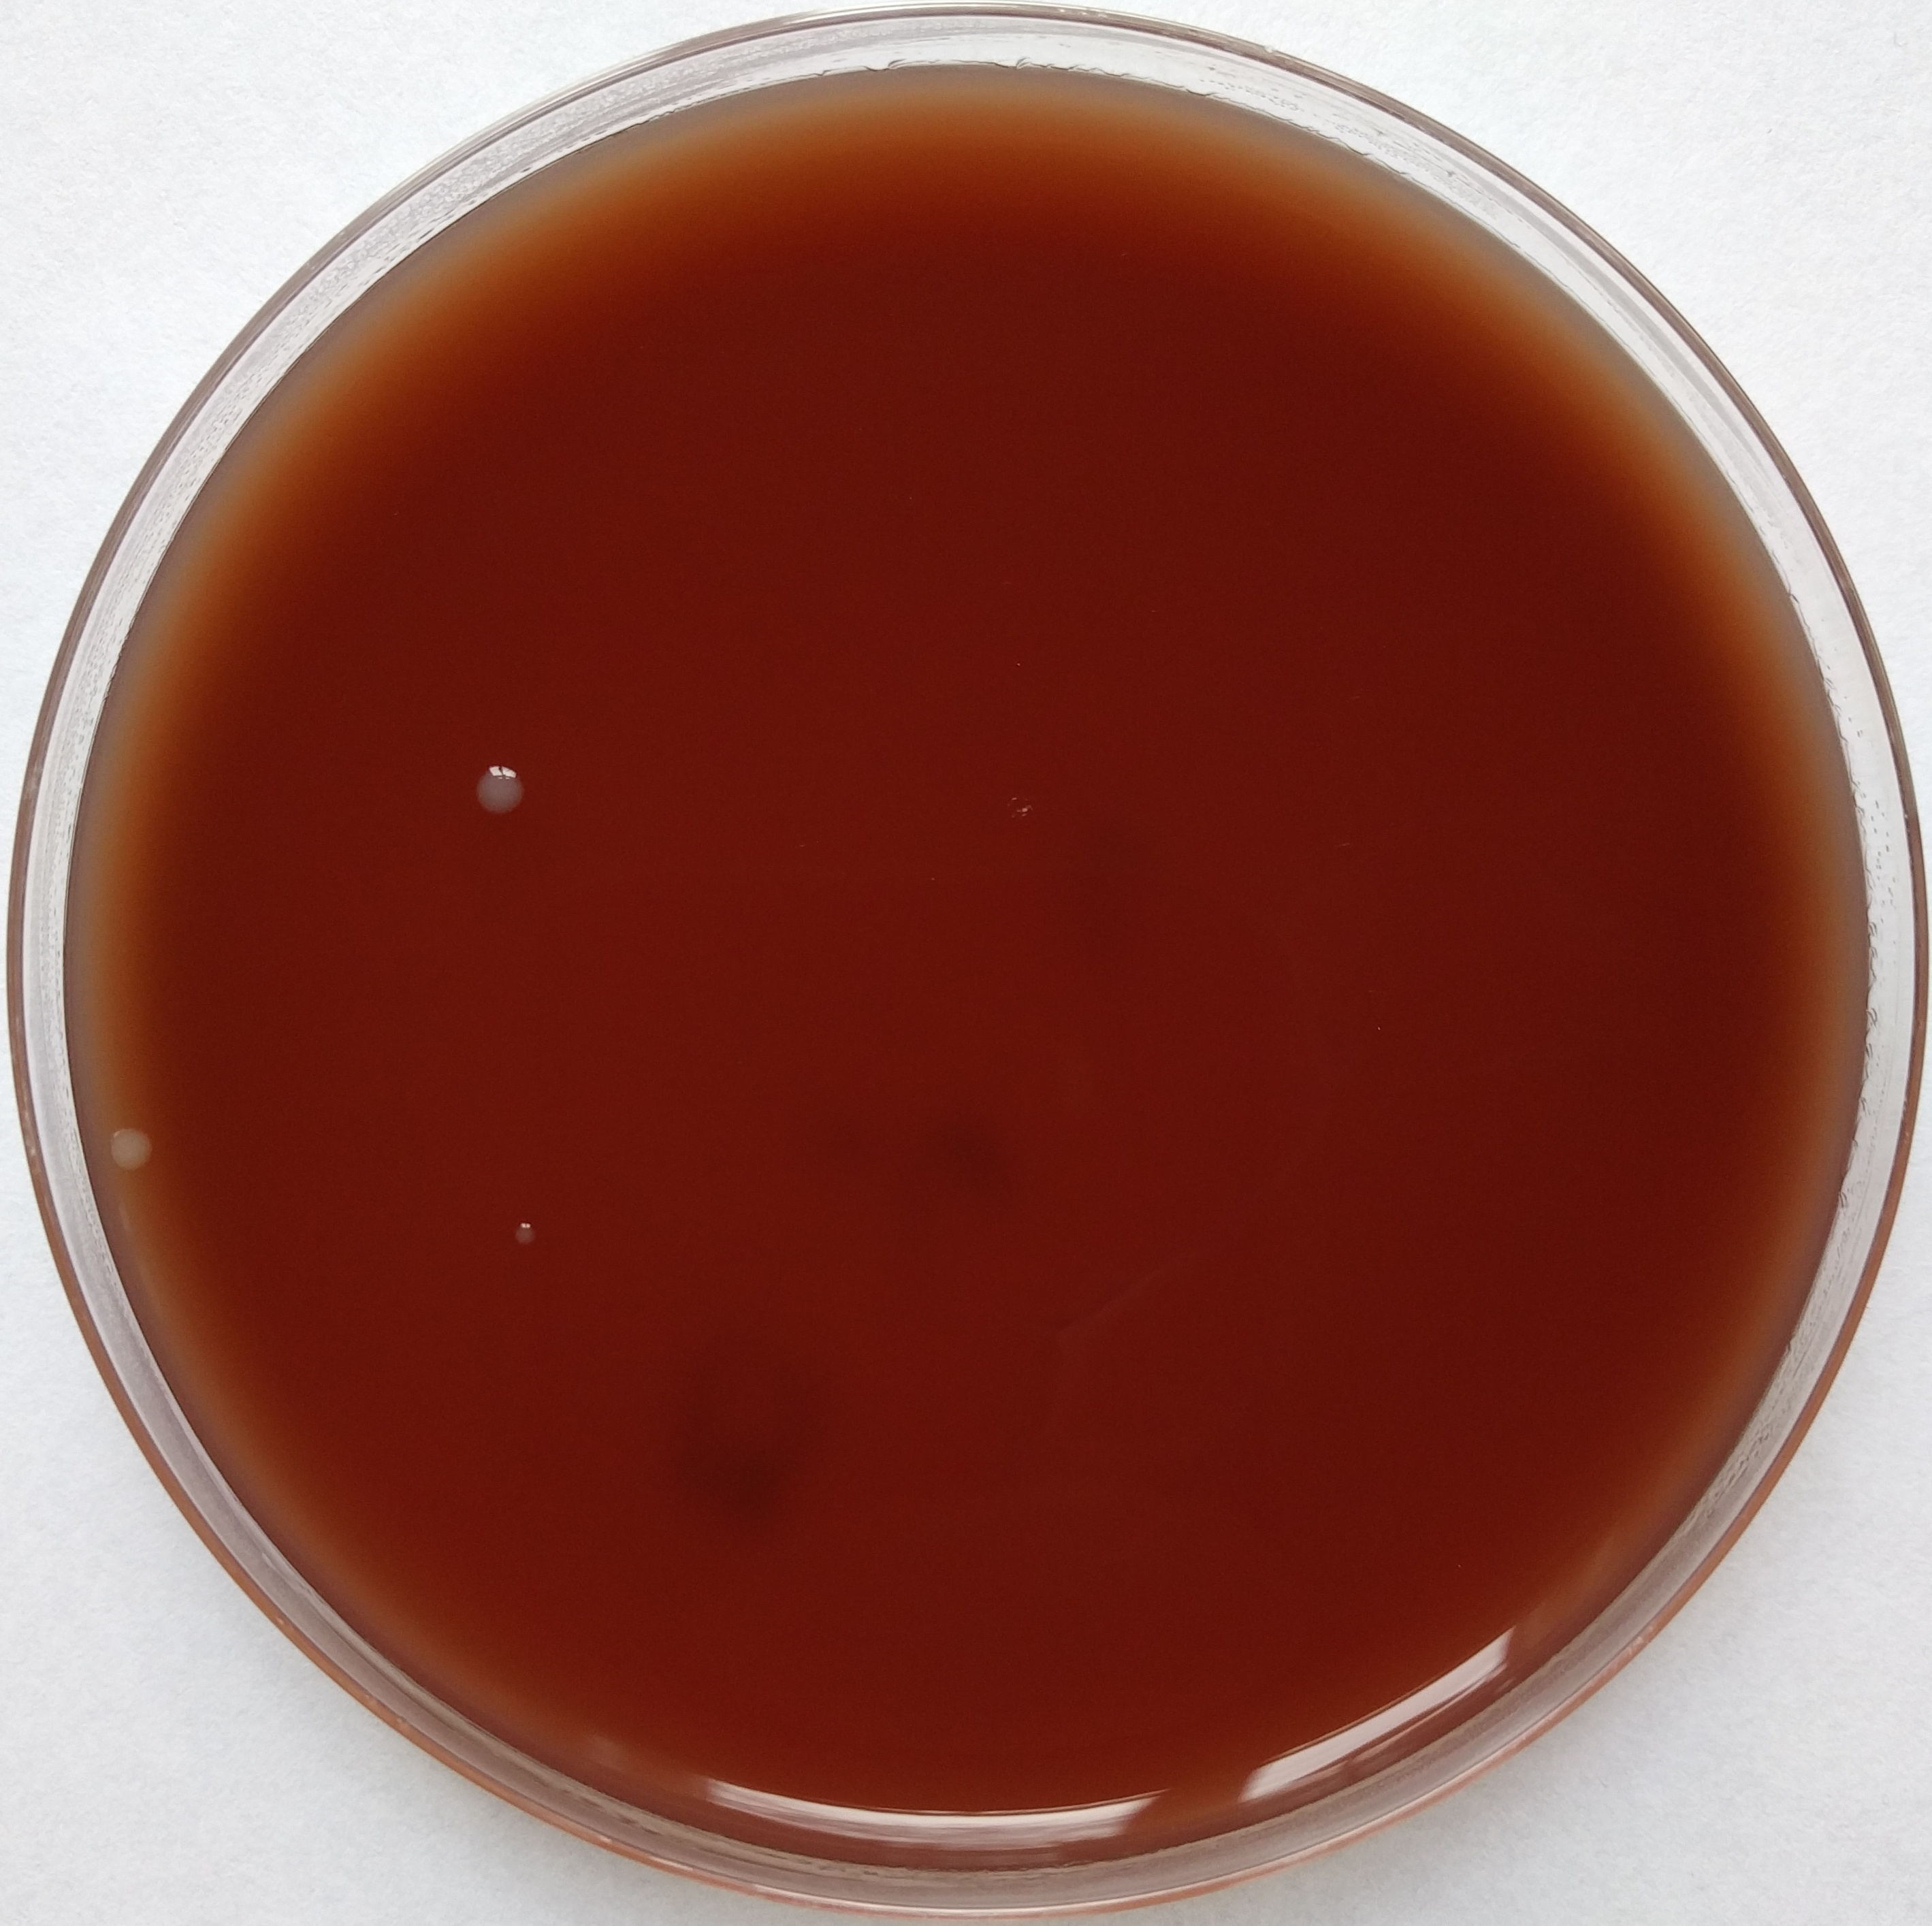sp16: (425, 744, 561, 827), (101, 1116, 175, 1198), (496, 1180, 547, 1284)
